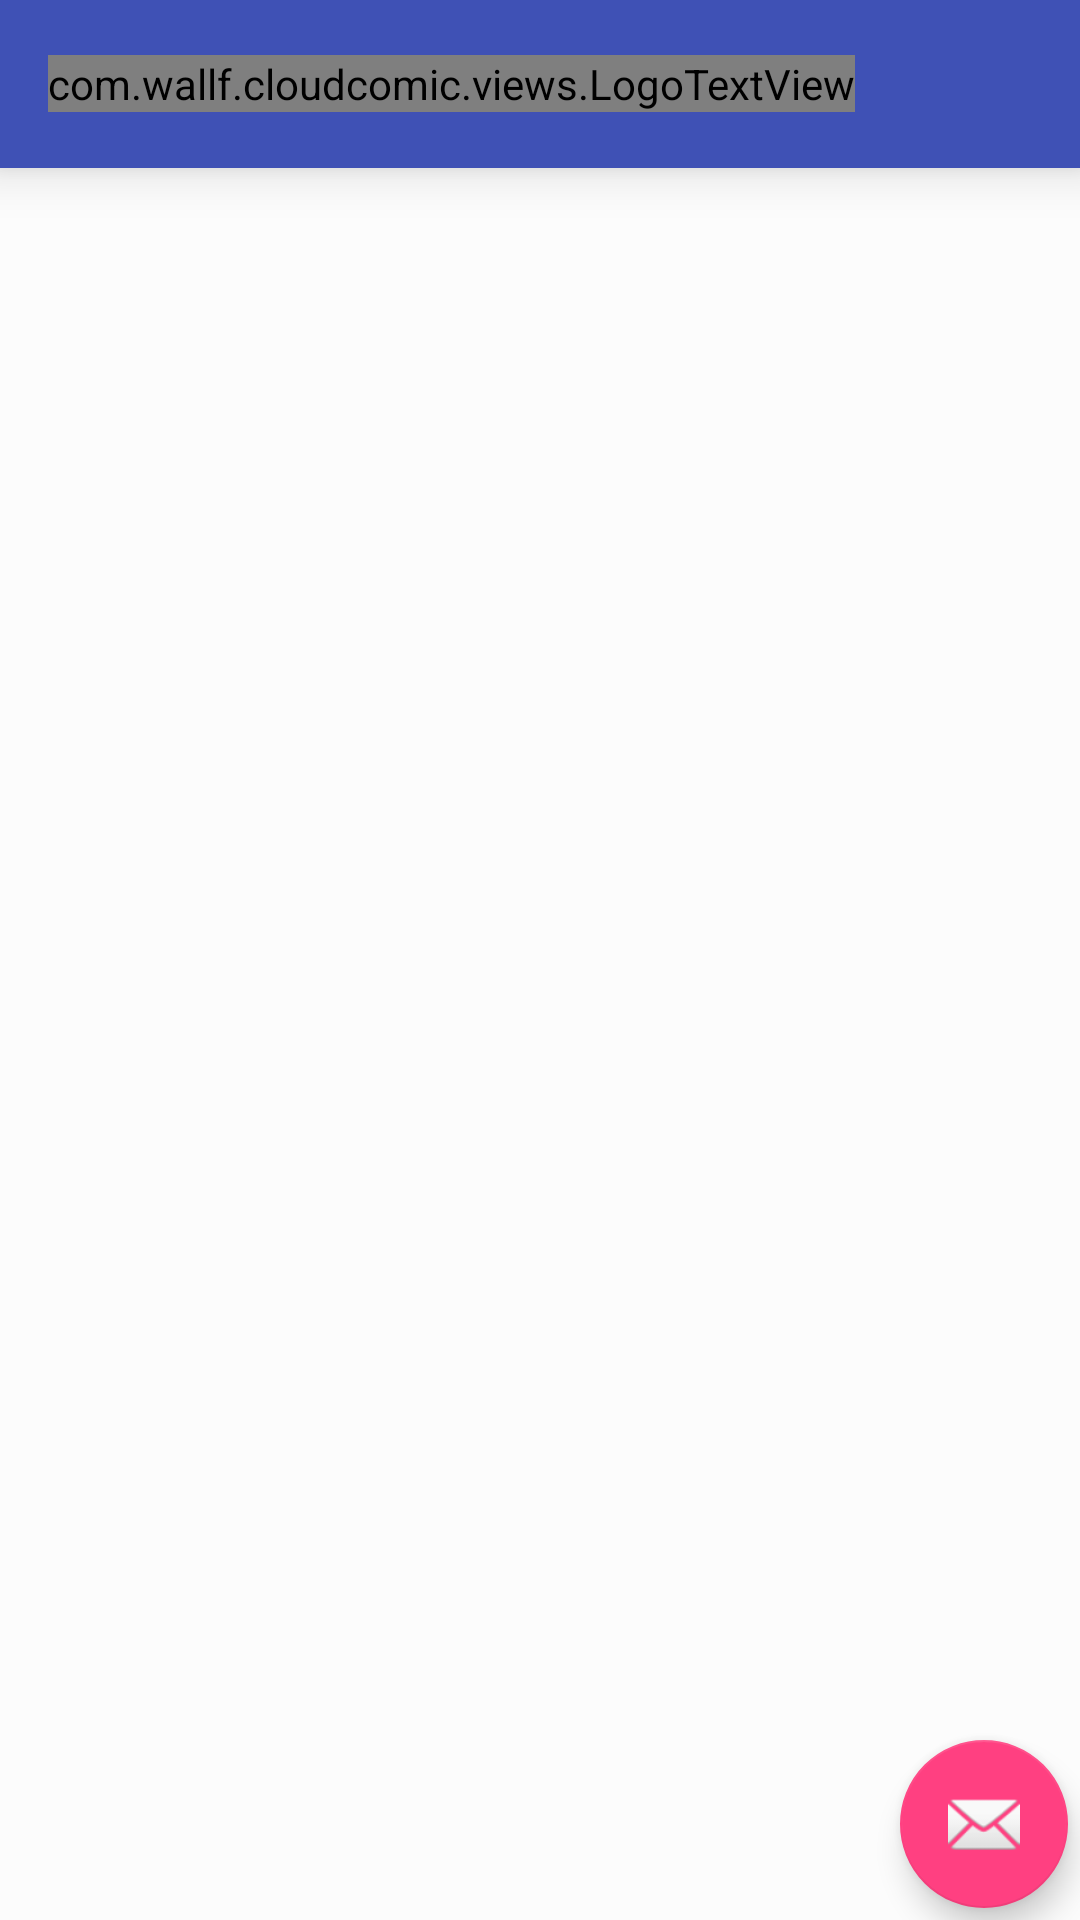

Where icons sit on this 1080w x 1920h app screen, as box=[x1, y1, x2, y2]:
email: box=[900, 1740, 1068, 1908]
